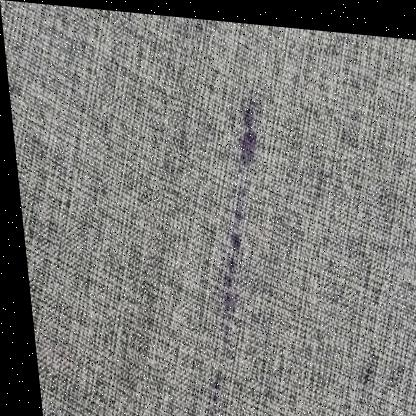spot: (202, 205, 256, 352), (217, 91, 266, 180), (195, 366, 225, 416)
